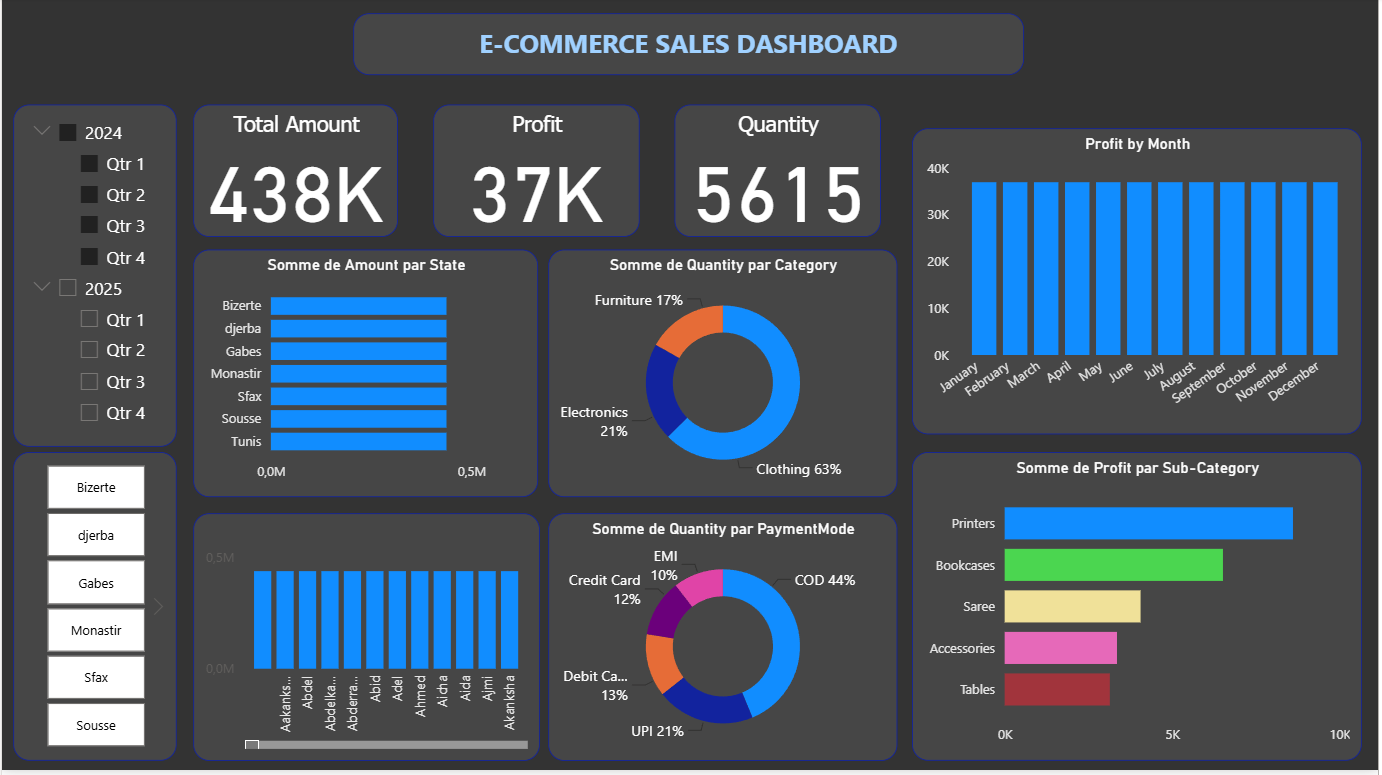

This screenshot's page, from the dashboard's own definition file:
{"tool":"powerbi","page":{"name":"Page 1","canvas":[1280,720],"ordinal":0},"visuals":[{"type":"textbox","box":[326.9,15.7,623.7,57.9],"z":0},{"type":"columnChart","title":"Profit by Month","fields":{"Category":["Orders.Order Date.Variation.Date Hierarchy.Month1"],"Y":["Sum(Details.Profit)"]},"box":[846.9,121.9,418.6,284.7],"z":1000},{"type":"clusteredBarChart","fields":{"Category":["Details.Sub-Category"],"Y":["Sum(Details.Profit)"]},"box":[846.9,423.5,418.6,287.1],"z":2000},{"type":"donutChart","fields":{"Category":["Details.Category"],"Y":["Sum(Details.Quantity)"]},"box":[507.9,235.3,324.5,230.4],"z":3000},{"type":"donutChart","fields":{"Category":["Details.PaymentMode"],"Y":["Sum(Details.Quantity)"]},"box":[507.9,480.2,324.5,230.4],"z":4000},{"type":"card","title":"Total Amount","fields":{"Values":["Sum(Details.Amount)"]},"box":[177.3,100.1,190.6,123.1],"z":5000},{"type":"card","title":"Quantity","fields":{"Values":["Sum(Details.Quantity)"]},"box":[626.1,100.1,191.8,123.1],"z":6000},{"type":"clusteredBarChart","fields":{"Category":["Orders.State"],"Y":["Sum(Details.Amount)"]},"box":[177.3,235.3,320.9,230.4],"z":7000},{"type":"clusteredColumnChart","fields":{"Category":["Orders.CustomerName"],"Y":["Sum(Details.Amount)"]},"box":[177.3,480.2,322.1,230.4],"z":8000},{"type":"card","title":"Profit","fields":{"Values":["Sum(Details.Profit)"]},"box":[401.7,100.1,191.8,123.1],"z":9000},{"type":"slicer","fields":{"Values":["Orders.Order Date.Variation.Date Hierarchy.Year","Orders.Order Date.Variation.Date Hierarchy.Quarter"]},"box":[10.9,100.1,152,318.5],"z":10000},{"type":"slicer","fields":{"Values":["Orders.State"]},"box":[10.9,423.5,152,287.1],"z":11000}]}

Visuals, with their boxes in screenshot pixels (x1, y1, x2, y2), scaled from the page's 1280x720 canvas onto the 1382x775 screenshot:
textbox: Rect(353, 17, 1026, 79)
"Profit by Month" columnChart: Rect(914, 131, 1366, 438)
clusteredBarChart - Details.Sub-Category x Sum(Details.Profit): Rect(914, 456, 1366, 765)
donutChart - Details.Category x Sum(Details.Quantity): Rect(548, 253, 899, 501)
donutChart - Details.PaymentMode x Sum(Details.Quantity): Rect(548, 517, 899, 765)
"Total Amount" card: Rect(191, 108, 397, 240)
"Quantity" card: Rect(676, 108, 883, 240)
clusteredBarChart - Orders.State x Sum(Details.Amount): Rect(191, 253, 538, 501)
clusteredColumnChart - Orders.CustomerName x Sum(Details.Amount): Rect(191, 517, 539, 765)
"Profit" card: Rect(434, 108, 641, 240)
slicer - Orders.Order Date.Variation.Date Hierarchy.Year x Orders.Order Date.Variation.Date Hierarchy.Quarter: Rect(12, 108, 176, 451)
slicer - Orders.State: Rect(12, 456, 176, 765)
